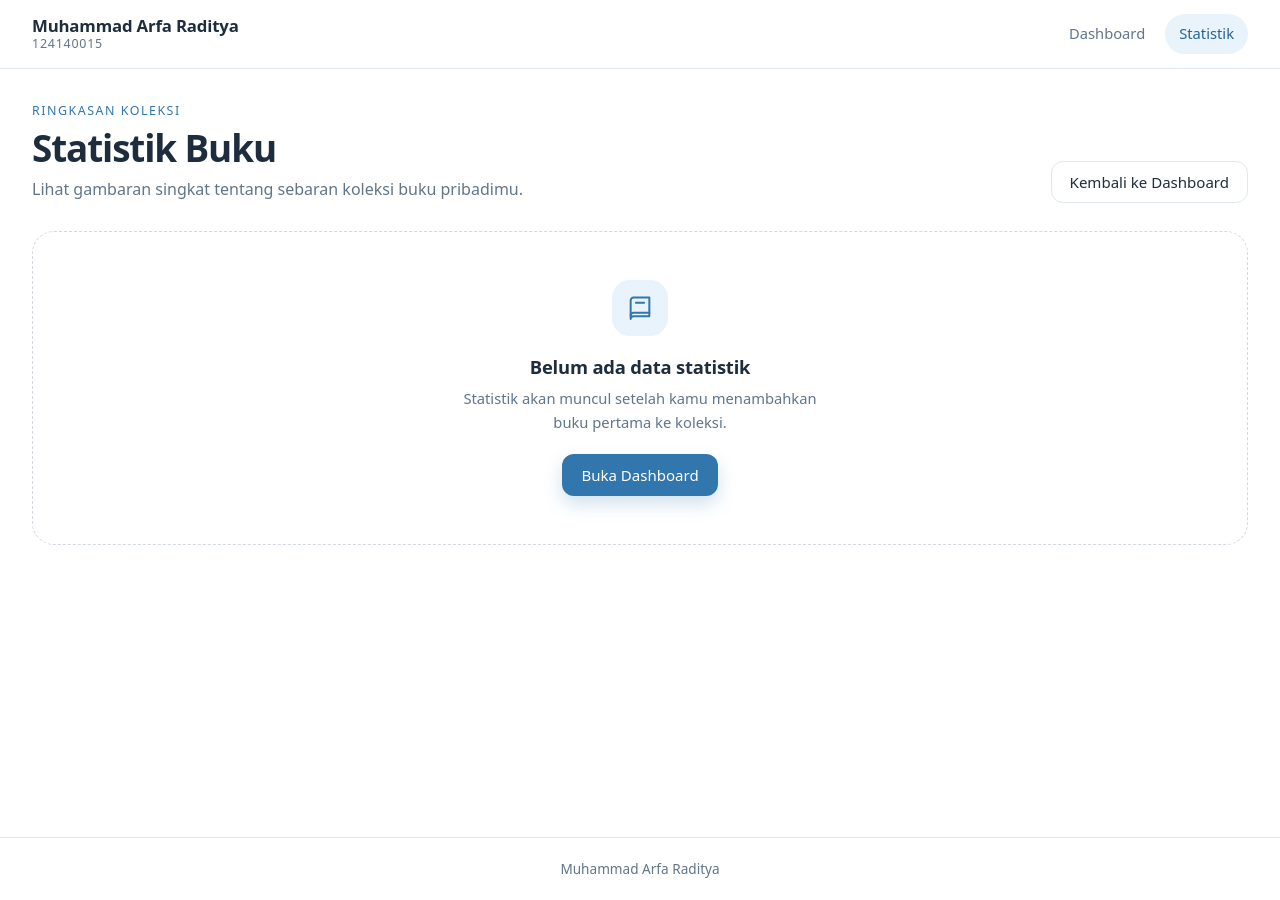
Test case: Halaman Statistik › menampilkan empty state dan dapat kembali ke dashboard saat belum ada buku
This screenshot has width=1280, height=900.
Expected: the heading "Belum ada data statistik" is shown, [530,352,750,381]
Click the button "Buka Dashboard": (640, 475) [562,454,718,496]
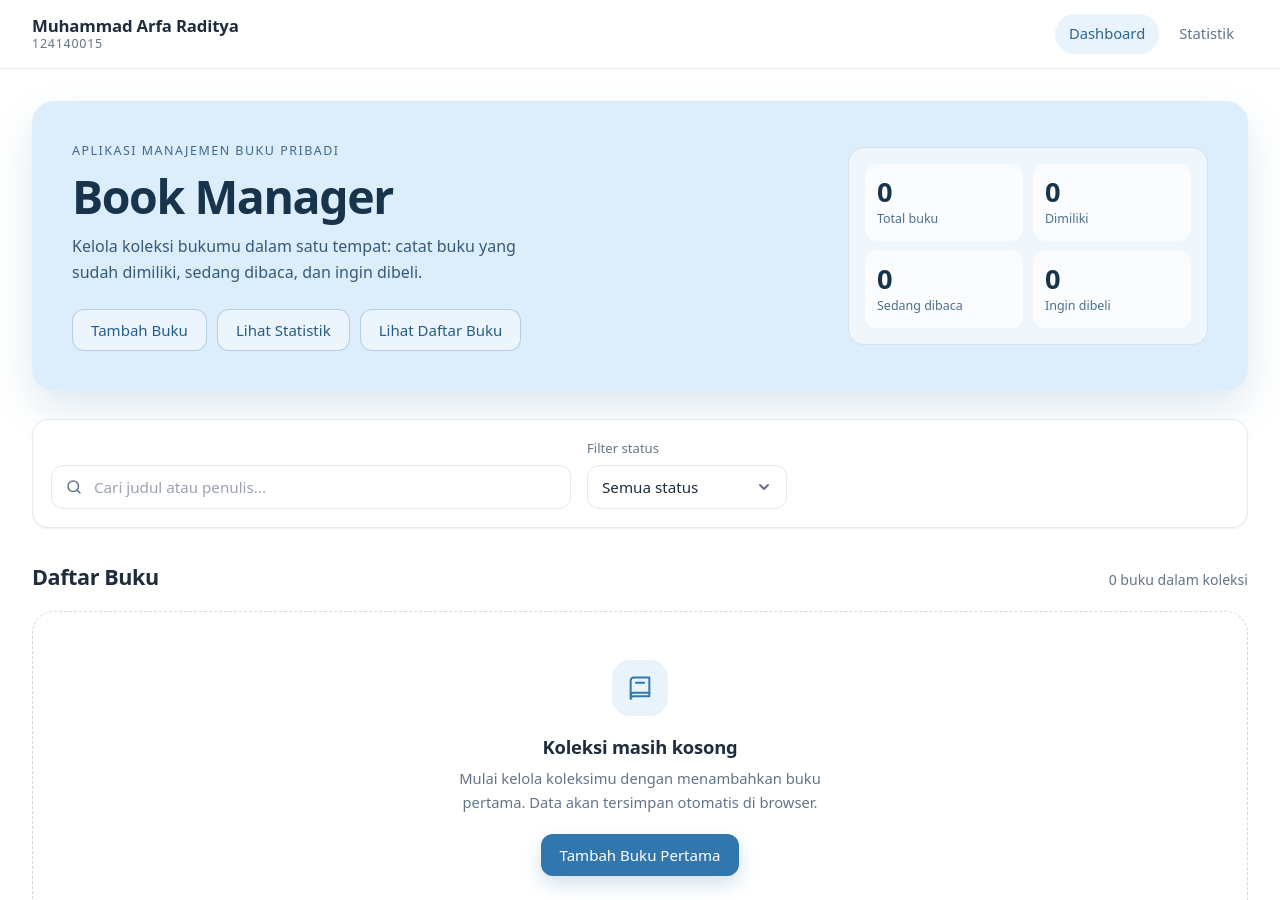
Result: the heading "Book Manager" is shown at [72,164,393,228]
